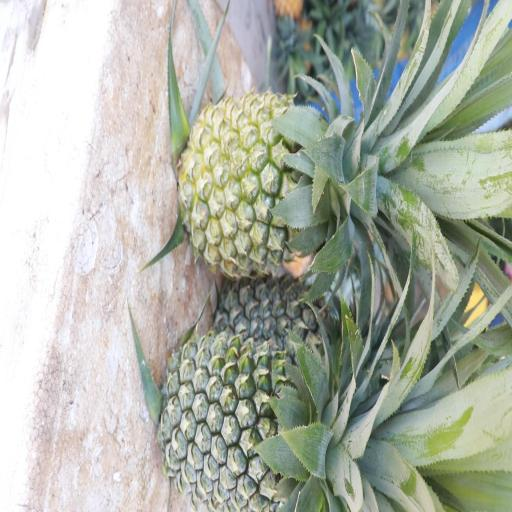Pineapple - v8 v1: (184, 87, 358, 275)
